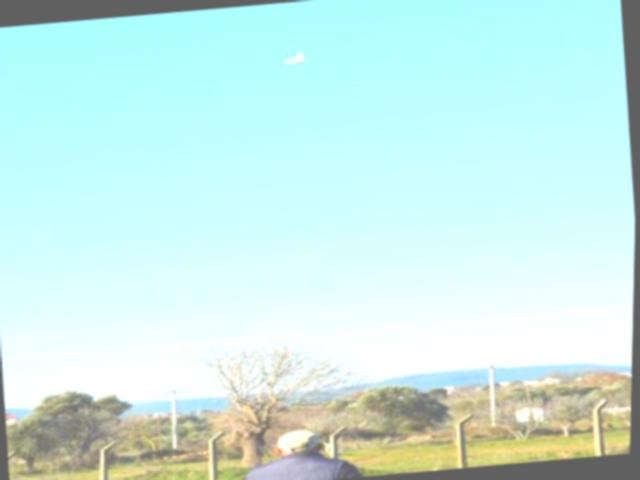iha: (283, 52, 306, 70)
